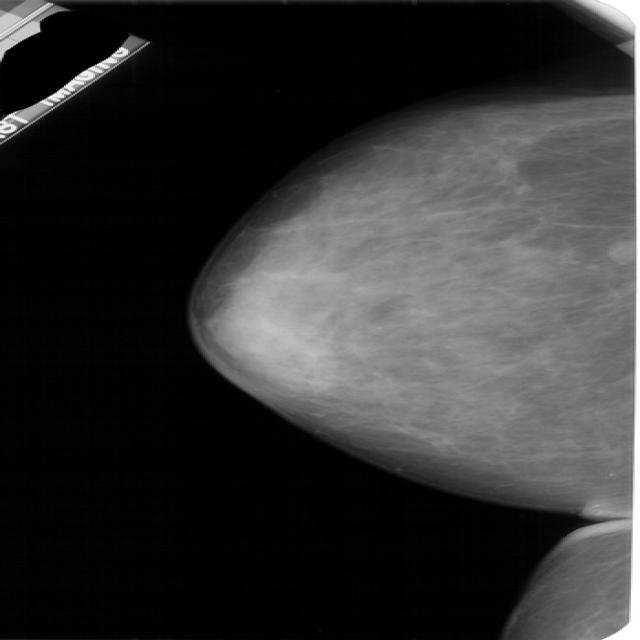tumour: (604, 236, 634, 265)
